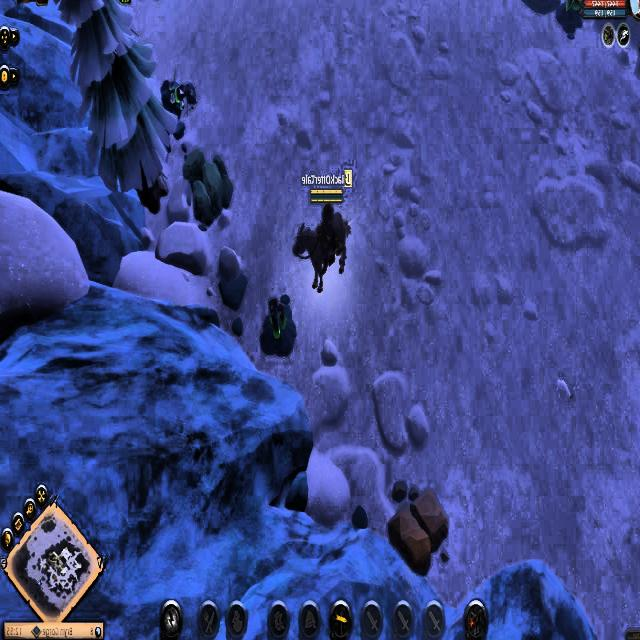limestone: (387, 487, 450, 577)
sandstone: (183, 148, 234, 228)
tinore: (257, 294, 298, 362), (552, 0, 586, 32)
